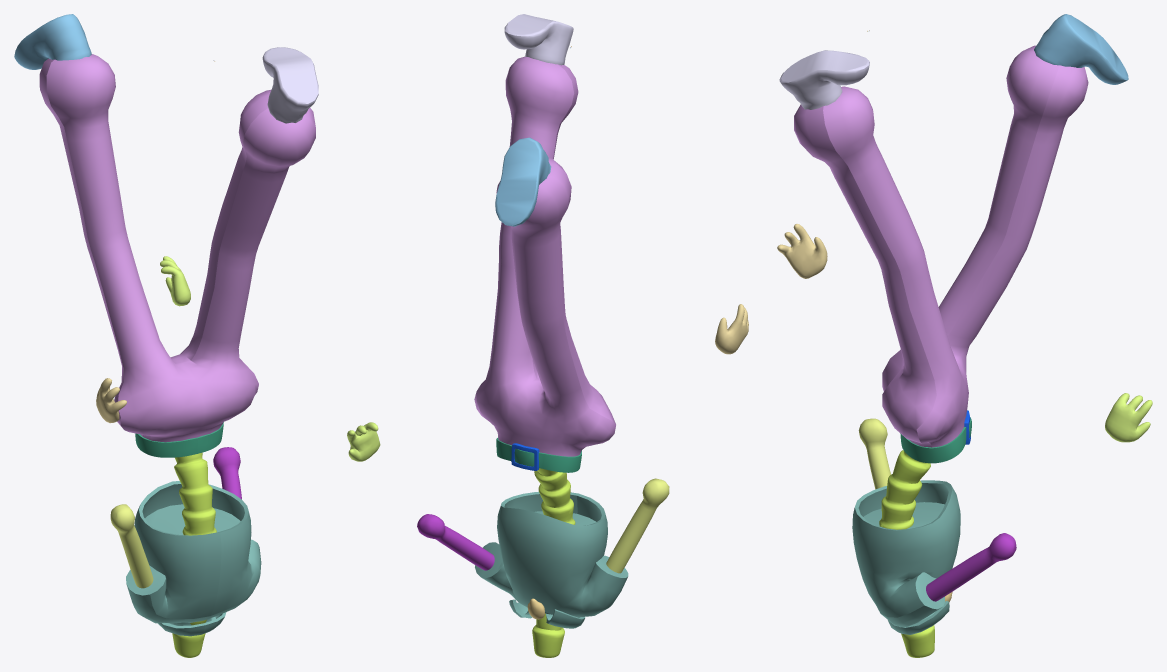
3 views of the same model, side by side, from view 1: azimuth 30°, elevation 25°; view 2: azimuth 150°, elevation 25°; view 3: azimuth 270°, elevation 25° (orthographic). The views are drawn at different scales.
Visible parts, largest first — view 1: split_parent_2, split_parent_12, split_parent_0, DefaultShape.028, DefaultShape.003, DefaultShape.004, split_parent_8, DefaultShape.001, DefaultShape.018, DefaultShape.021; view 2: split_parent_2, split_parent_12, DefaultShape.003, DefaultShape.028, split_parent_0, DefaultShape.004, DefaultShape.001, split_parent_8, DefaultShape.021, DefaultShape.018; view 3: split_parent_2, split_parent_12, DefaultShape.003, split_parent_0, DefaultShape.028, DefaultShape.001, DefaultShape.021, DefaultShape.018, DefaultShape.004, split_parent_8.
Boxes of the visible parts, <box> form: split_parent_2: <box>39,54,315,442</box>; split_parent_12: <box>126,481,261,636</box>; split_parent_0: <box>262,47,318,123</box>; DefaultShape.028: <box>172,452,216,657</box>; DefaultShape.003: <box>14,14,91,69</box>; DefaultShape.004: <box>110,504,153,588</box>; split_parent_8: <box>135,422,223,457</box>; DefaultShape.001: <box>213,447,241,499</box>; DefaultShape.018: <box>160,256,190,306</box>; DefaultShape.021: <box>96,378,126,423</box>; split_parent_2: <box>474,56,615,456</box>; split_parent_12: <box>475,491,628,628</box>; DefaultShape.003: <box>495,137,551,226</box>; DefaultShape.028: <box>532,468,575,657</box>; split_parent_0: <box>504,14,573,65</box>; DefaultShape.004: <box>606,478,669,573</box>; DefaultShape.001: <box>417,514,494,570</box>; split_parent_8: <box>496,438,581,472</box>; DefaultShape.021: <box>715,304,748,354</box>; DefaultShape.018: <box>347,422,380,461</box>; split_parent_2: <box>794,45,1088,447</box>; split_parent_12: <box>852,480,960,634</box>; DefaultShape.003: <box>1034,14,1128,84</box>; split_parent_0: <box>779,50,869,109</box>; DefaultShape.028: <box>879,450,934,657</box>; DefaultShape.001: <box>926,533,1016,601</box>; DefaultShape.021: <box>777,224,827,278</box>; DefaultShape.018: <box>1105,393,1152,442</box>; DefaultShape.004: <box>858,418,890,489</box>; split_parent_8: <box>900,417,971,463</box>.
Size of the model in its own units: 59.15 by 141 by 76.71.
